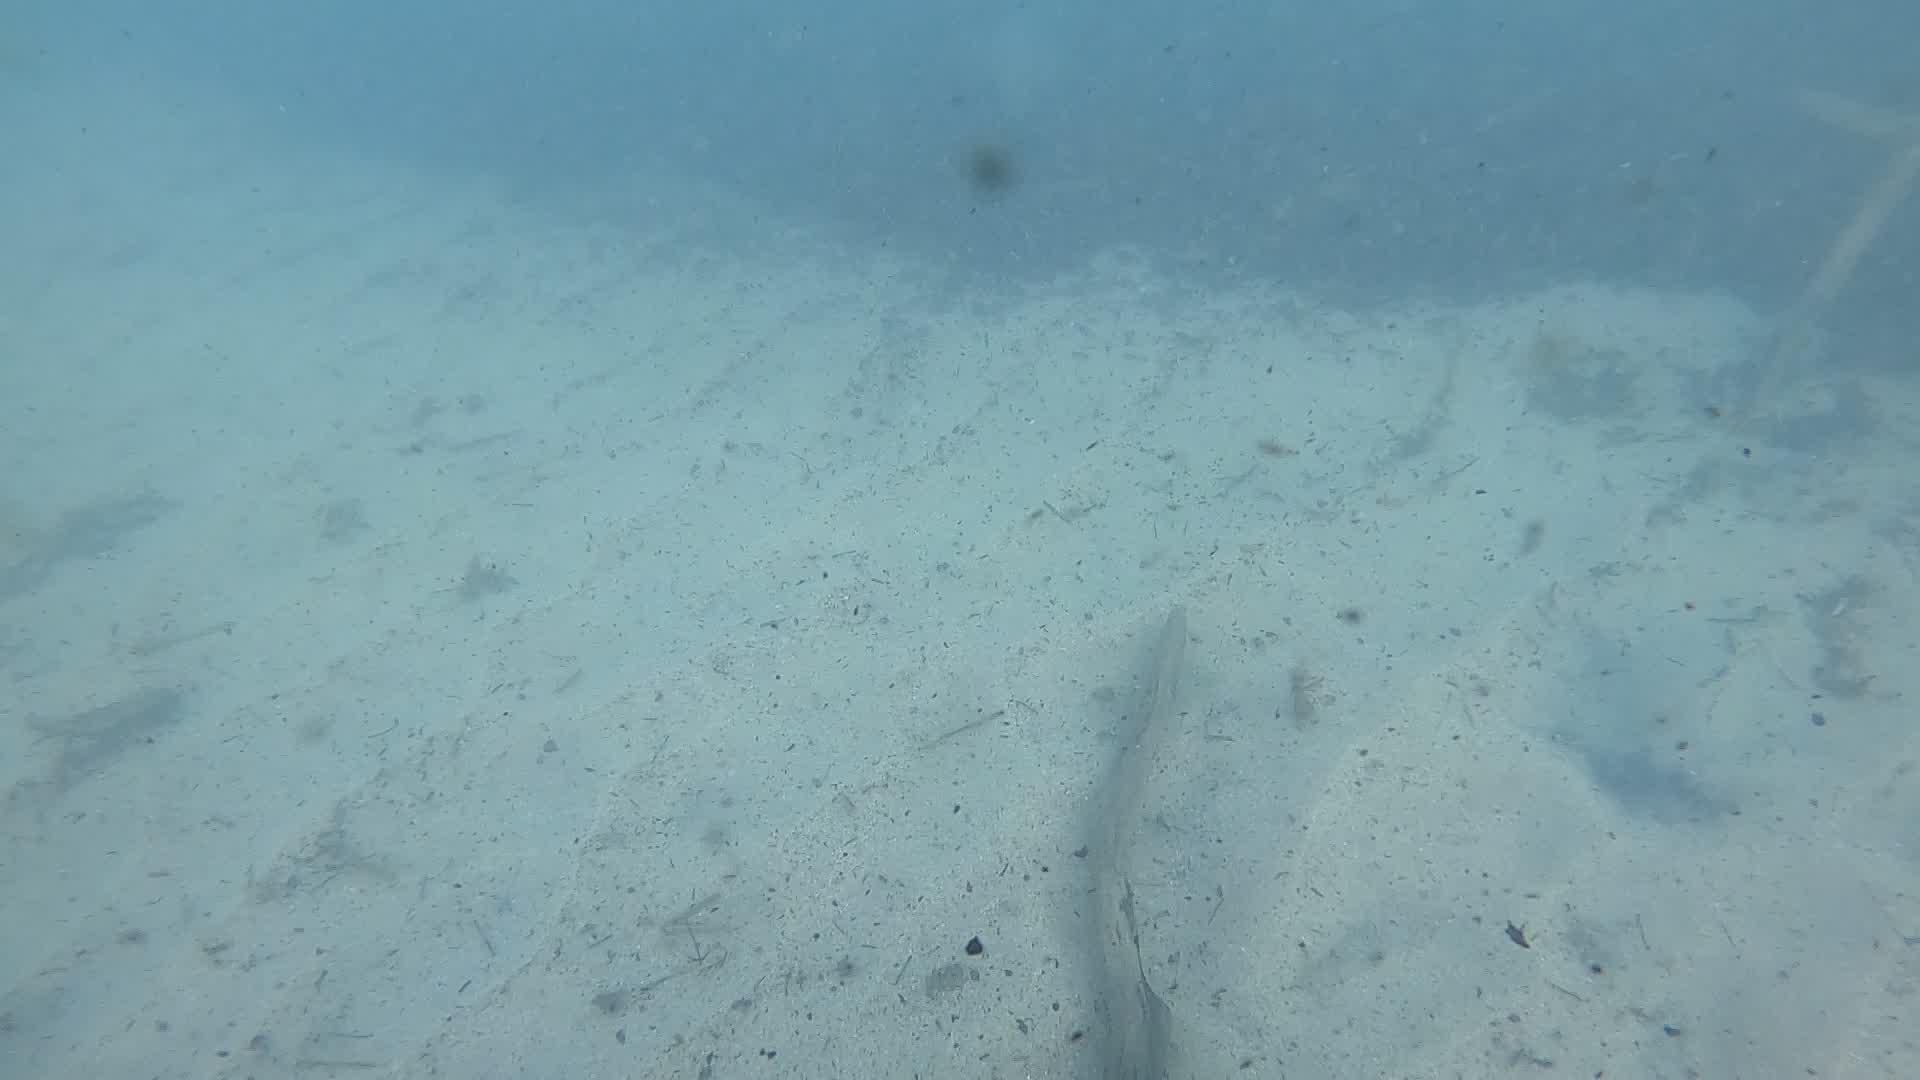wood: (1073, 607, 1179, 1080)
